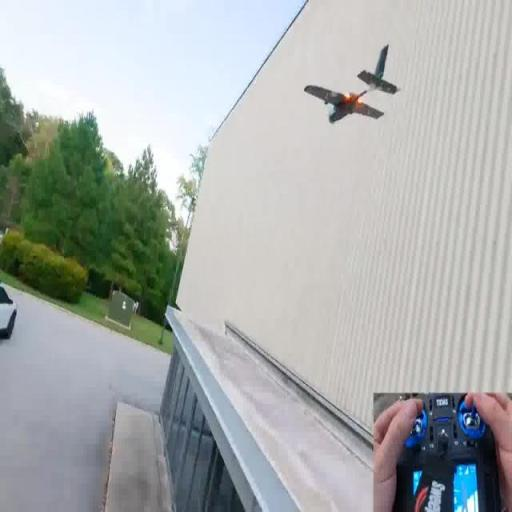uav: (302, 40, 402, 147)
